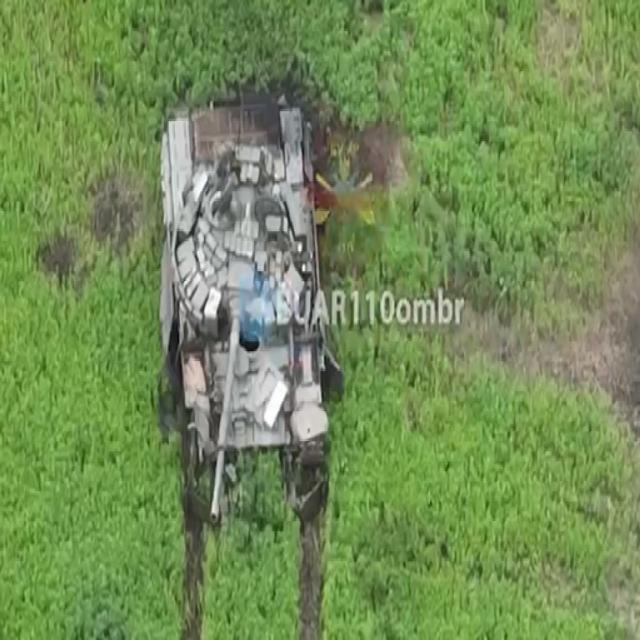TANK: (144, 62, 348, 554)
